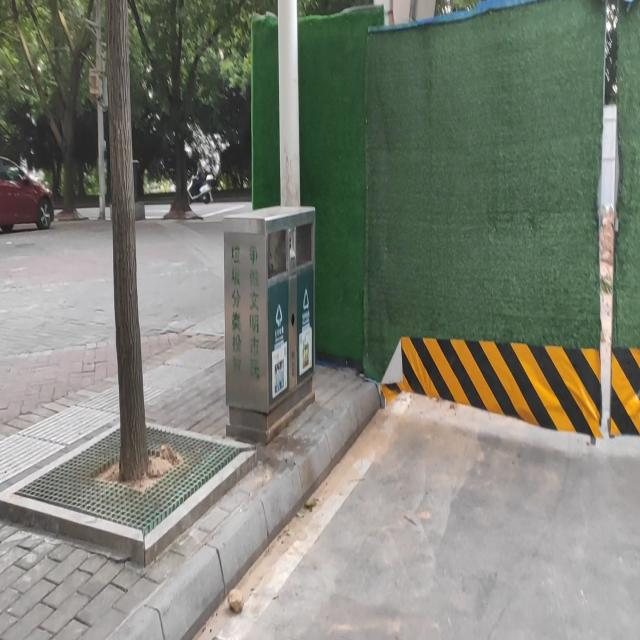ash bin: (221, 204, 317, 444)
car: (0, 154, 55, 232)
pole: (104, 5, 150, 479), (274, 4, 304, 201)
